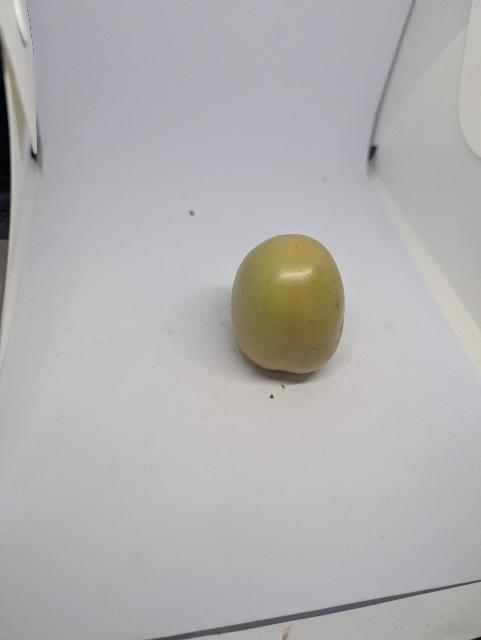breaker: (232, 234, 345, 373)
